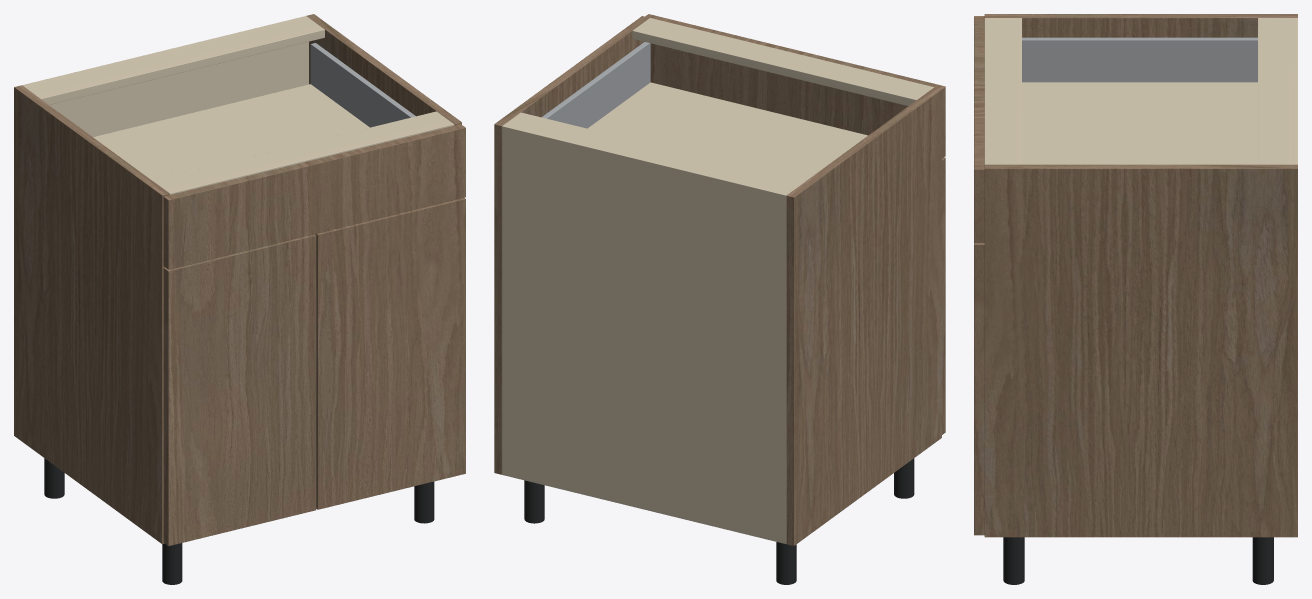
The model's file is oppein-ply-mnw-b27.glb.
3 views of the same model, side by side, from view 1: azimuth 30°, elevation 25°; view 2: azimuth 150°, elevation 25°; view 3: azimuth 270°, elevation 25° (orthographic). The views are drawn at different scales.
Parts seen in each view (by area): view 1: Cabinet side, Door, Door.001, Drawer front, Drawer floor, Cabinet back, Top support rail, Top support rail.001, Drawer side.001, Cabinet side.001, Adjustable foot.001, Adjustable foot.003 (+1 smaller); view 2: Cabinet back, Cabinet side, Drawer floor, Drawer front, Top support rail.001, Cabinet side.001, Top support rail, Drawer side.001, Door, Adjustable foot, Adjustable foot.002, Adjustable foot.001; view 3: Cabinet side.001, Drawer floor, Drawer side, Cabinet side, Top support rail.001, Top support rail, Door.001, Drawer front, Adjustable foot.003, Adjustable foot.002, Cabinet back.
Boxes of the visible parts, x1=… form: Cabinet side: x1=14, y1=85, x2=169, y2=544; Door: x1=163, y1=234, x2=316, y2=546; Door.001: x1=315, y1=198, x2=465, y2=509; Drawer front: x1=163, y1=124, x2=465, y2=269; Drawer floor: x1=93, y1=84, x2=369, y2=180; Cabinet back: x1=22, y1=16, x2=308, y2=136; Top support rail: x1=23, y1=18, x2=324, y2=104; Top support rail.001: x1=153, y1=111, x2=454, y2=194; Drawer side.001: x1=310, y1=43, x2=415, y2=127; Cabinet side.001: x1=306, y1=14, x2=461, y2=125; Adjustable foot.001: x1=162, y1=543, x2=182, y2=584; Adjustable foot.003: x1=414, y1=481, x2=434, y2=523; Cabinet back: x1=502, y1=124, x2=788, y2=543; Cabinet side: x1=786, y1=87, x2=941, y2=545; Drawer floor: x1=588, y1=82, x2=867, y2=181; Drawer front: x1=645, y1=14, x2=945, y2=158; Top support rail.001: x1=632, y1=18, x2=933, y2=105; Cabinet side.001: x1=494, y1=16, x2=649, y2=474; Top support rail: x1=505, y1=112, x2=804, y2=193; Drawer side.001: x1=541, y1=42, x2=650, y2=128; Door: x1=942, y1=157, x2=945, y2=434; Adjustable foot: x1=776, y1=542, x2=796, y2=584; Adjustable foot.002: x1=524, y1=480, x2=544, y2=523; Adjustable foot.001: x1=894, y1=458, x2=914, y2=498; Cabinet side.001: x1=984, y1=164, x2=1297, y2=537; Drawer floor: x1=1022, y1=82, x2=1257, y2=164; Drawer side: x1=1022, y1=37, x2=1257, y2=82; Cabinet side: x1=984, y1=14, x2=1297, y2=37; Top support rail.001: x1=984, y1=18, x2=1021, y2=164; Top support rail: x1=1258, y1=18, x2=1291, y2=164; Door.001: x1=974, y1=243, x2=984, y2=535; Drawer front: x1=974, y1=16, x2=984, y2=242; Adjustable foot.003: x1=1003, y1=537, x2=1024, y2=584; Adjustable foot.002: x1=1252, y1=537, x2=1273, y2=584; Cabinet back: x1=1292, y1=18, x2=1297, y2=164.
Bounding box in the file's own units: 0.6858 × 0.8763 × 0.6064.
4 materials, 1 textured.
